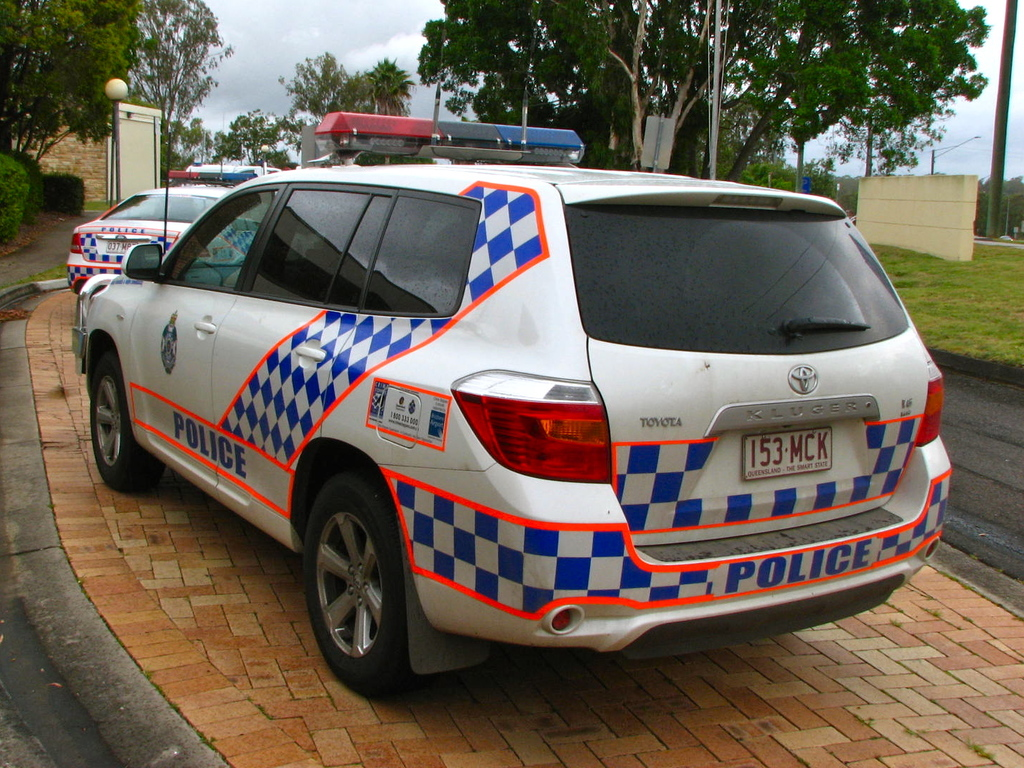cars: (67, 109, 948, 691), (67, 170, 259, 298)
